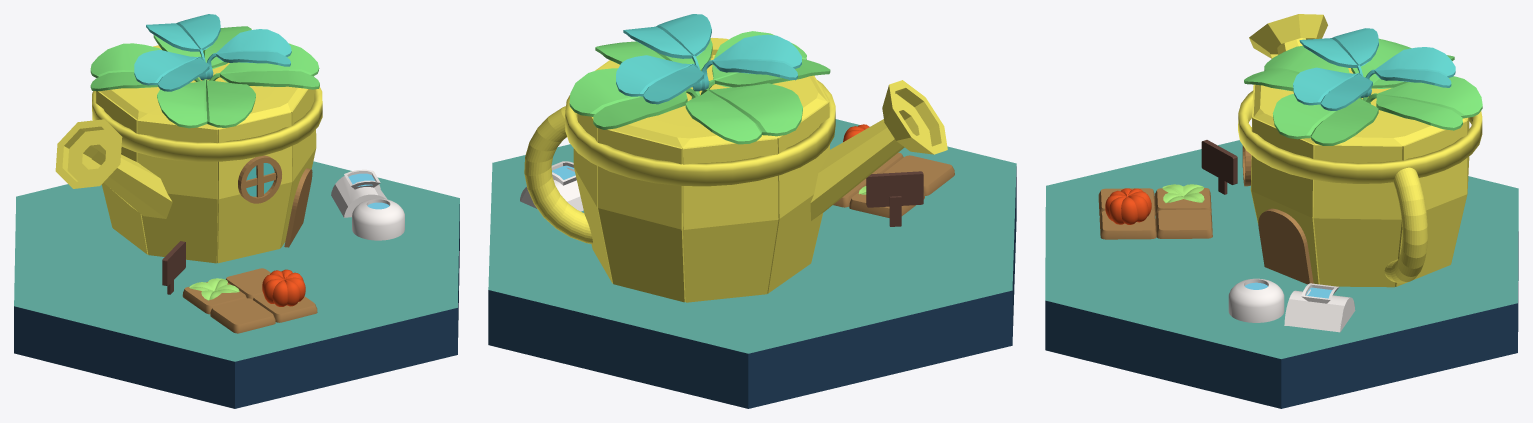
File: Macro - farm barn lv1 wm 3.fbx
The picture shows the model from 3 angles, left to right: view 1: azimuth 30°, elevation 25°; view 2: azimuth 150°, elevation 25°; view 3: azimuth 270°, elevation 25°; orthographic projection. The views are drawn at different scales.
Visible parts, largest first — view 1: Cylinder.154, Cube.020, Cube.047, Cube.019, Plane.008, Cube.046, Cube.045, Plane.005, Plane.015, Plane.010, Plane.009, Cylinder.015 (+9 smaller); view 2: Cylinder.154, Cube.020, Cube.047, Plane.009, Cube.045, Cube.017, Plane.007, Cube.046, Plane.016, Plane.015, Plane.010, Cube.019 (+5 smaller); view 3: Cylinder.154, Cube.020, Cube.047, Cube.019, Plane.007, Plane.005, Cube.017, Cube.033, Cylinder.017, Plane.010, Plane.016, Cylinder.015 (+8 smaller).
Part boxes in pixels (box(x1,y1,x2,y2)): Cylinder.154: box(14, 161, 459, 408); Cube.020: box(95, 45, 316, 263); Cube.047: box(92, 87, 322, 161); Cube.019: box(182, 268, 317, 333); Plane.008: box(157, 79, 255, 128); Cube.046: box(55, 119, 122, 188); Cube.045: box(91, 148, 172, 218); Plane.005: box(209, 43, 319, 89); Plane.015: box(134, 49, 209, 91); Plane.010: box(207, 29, 291, 79); Plane.009: box(90, 43, 200, 91); Cylinder.015: box(352, 198, 404, 240); Cylinder.154: box(488, 119, 1016, 408); Cube.020: box(573, 37, 829, 302); Cube.047: box(565, 55, 835, 186); Plane.009: box(685, 83, 802, 144); Cube.045: box(810, 119, 904, 220); Cube.017: box(524, 106, 592, 243); Plane.007: box(569, 68, 697, 129); Cube.046: box(882, 80, 947, 154); Plane.016: box(616, 55, 703, 104); Plane.015: box(701, 34, 801, 90); Plane.010: box(623, 14, 711, 69); Cube.019: box(833, 152, 954, 217); Cylinder.154: box(1045, 140, 1518, 408); Cube.020: box(1250, 84, 1469, 287); Cube.047: box(1238, 90, 1482, 183); Cube.019: box(1098, 188, 1212, 239); Plane.007: box(1365, 76, 1482, 130); Plane.005: box(1273, 93, 1378, 145); Cube.017: box(1384, 167, 1427, 283); Cube.033: box(1258, 208, 1313, 284); Cylinder.017: box(1284, 283, 1355, 332); Plane.010: box(1293, 67, 1372, 110); Plane.016: box(1365, 47, 1455, 97); Cylinder.015: box(1228, 278, 1284, 322).
Bounding box in the file's own units: 197 × 95.43 × 172.
